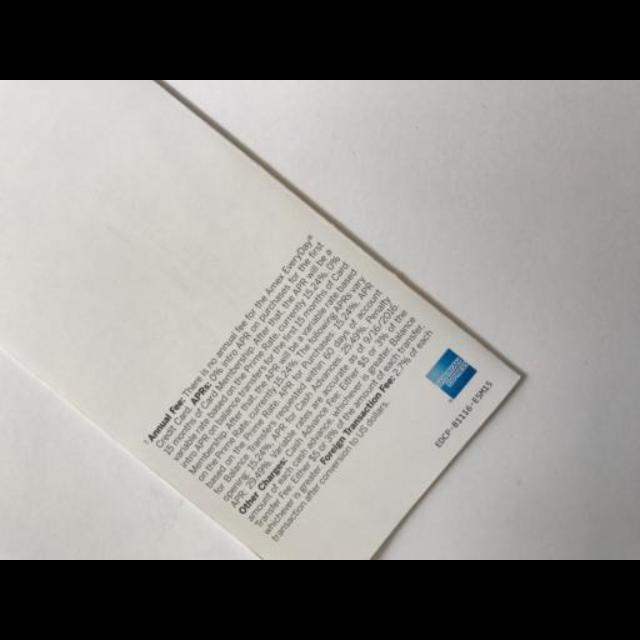papel: (0, 80, 524, 560)
